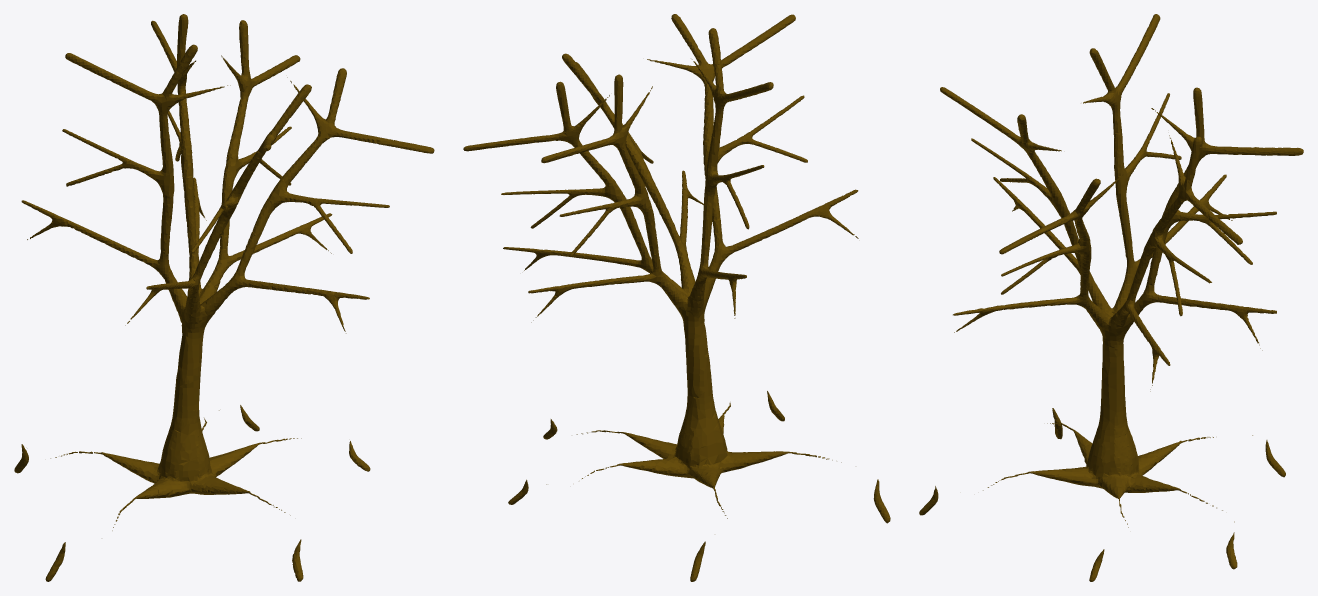
Rendered from tree.fd523acb.glb.
3 views of the same model, side by side, from view 1: azimuth 30°, elevation 25°; view 2: azimuth 150°, elevation 25°; view 3: azimuth 270°, elevation 25° (orthographic). The views are drawn at different scales.
Parts seen in each view (by area): view 1: tree; view 2: tree; view 3: tree.
Part boxes in pixels (left/top/right/bottom): tree: left=14, top=14, right=434, bottom=581; tree: left=463, top=14, right=890, bottom=581; tree: left=919, top=14, right=1303, bottom=581.
Bounding box in the file's own units: 7.63 × 9.85 × 7.35.
